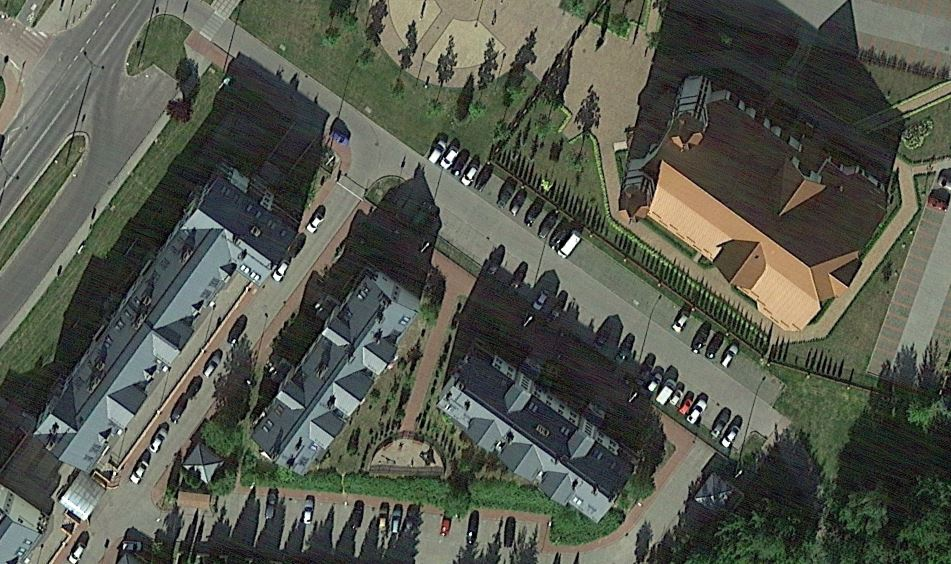block of flats: (24, 161, 304, 480), (431, 331, 644, 525), (249, 255, 429, 476)
church: (615, 63, 868, 333)
